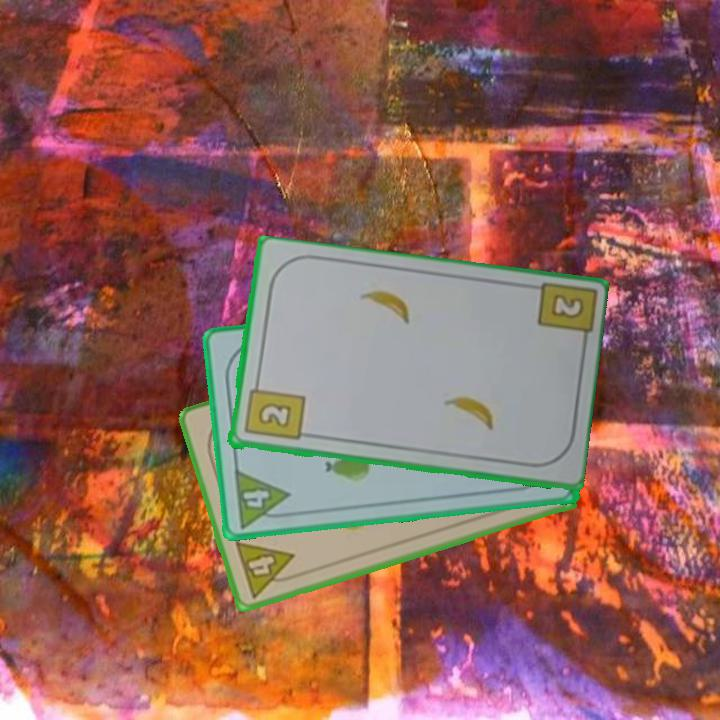2b: (240, 376, 307, 443), (550, 294, 583, 320)
4p: (231, 537, 303, 601), (230, 466, 294, 531)
